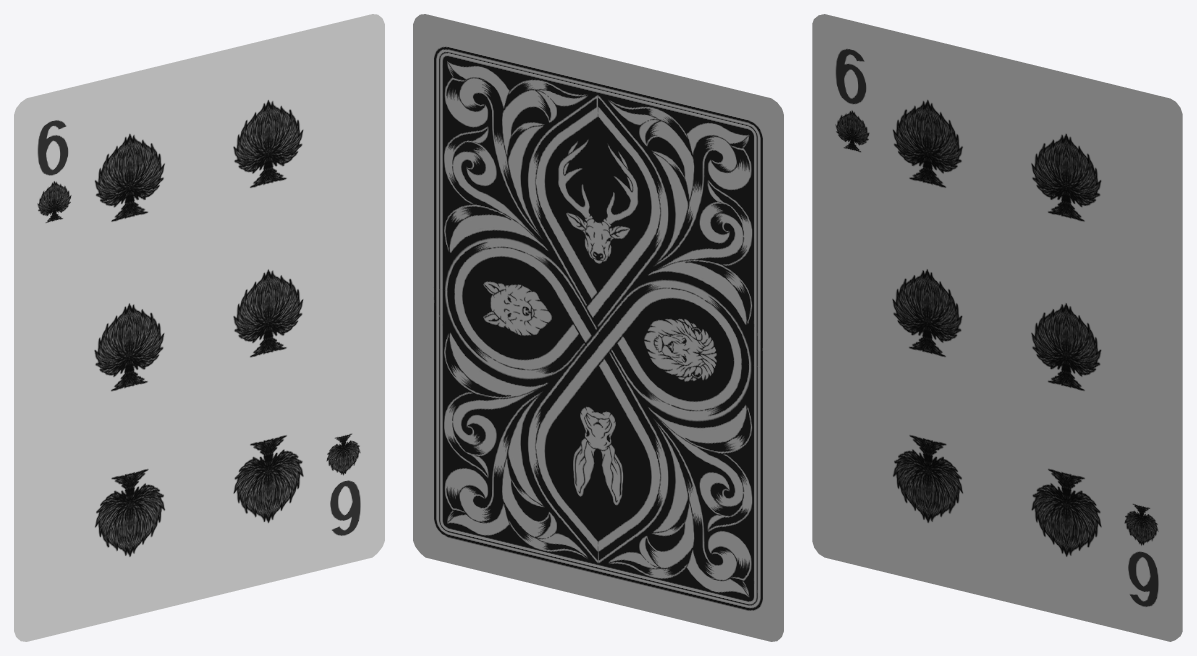
The picture shows the model from 3 angles, left to right: view 1: azimuth 30°, elevation 25°; view 2: azimuth 150°, elevation 25°; view 3: azimuth 330°, elevation 25°; orthographic projection.
Visible parts, largest first — view 1: Node; view 2: Node; view 3: Node.
Part boxes in pixels (x1,y1,x2,y2): Node: (14, 14, 384, 641); Node: (413, 14, 783, 641); Node: (812, 14, 1182, 641).
Size of the model in its own units: 1.5 by 2.1 by 7.08e-05.
Materials: 1 (1 with a texture image).
